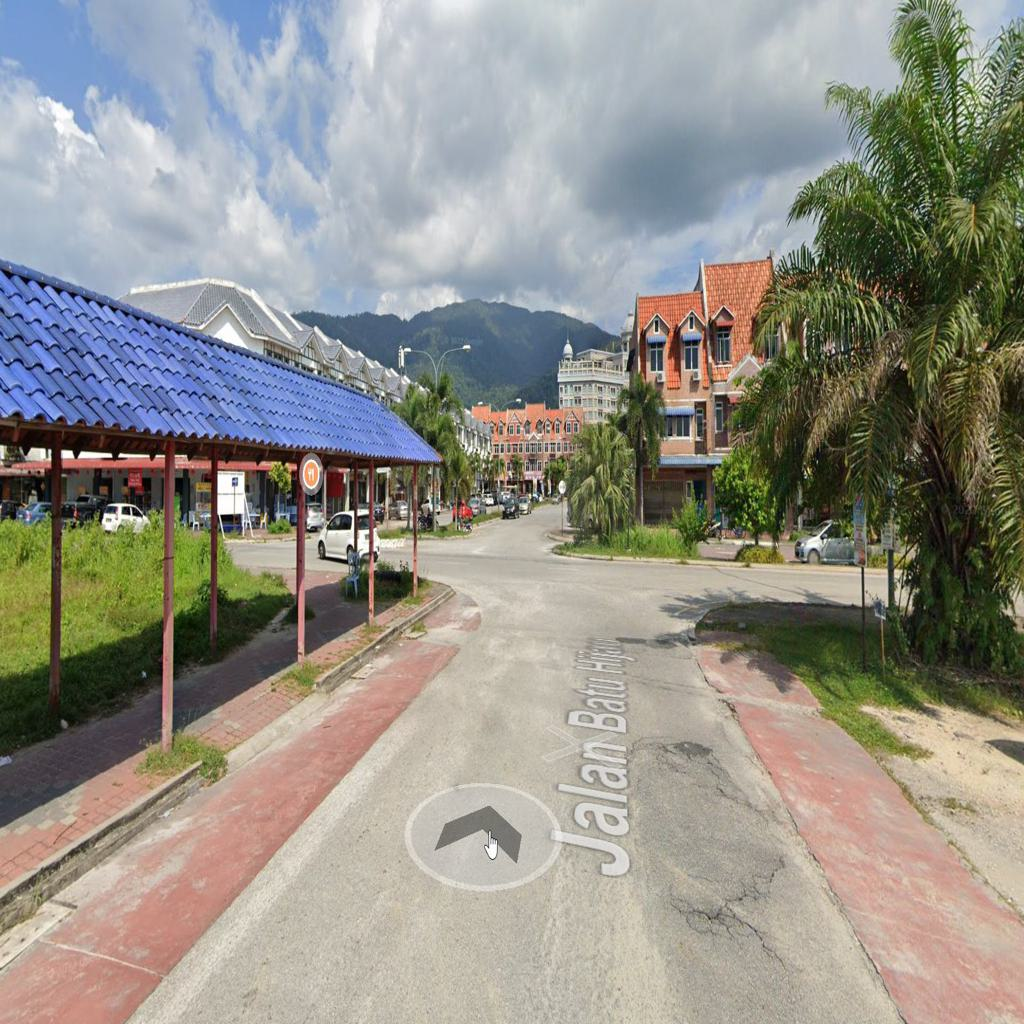Junction: (661, 512, 885, 648), (254, 503, 491, 627)
